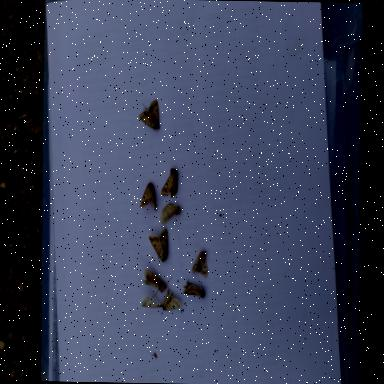abw: (142, 268, 172, 298), (147, 228, 168, 264), (138, 99, 160, 130), (160, 168, 178, 199), (140, 182, 158, 212), (160, 287, 182, 310), (160, 202, 180, 225), (182, 280, 206, 299), (192, 250, 208, 278), (140, 297, 161, 308)
